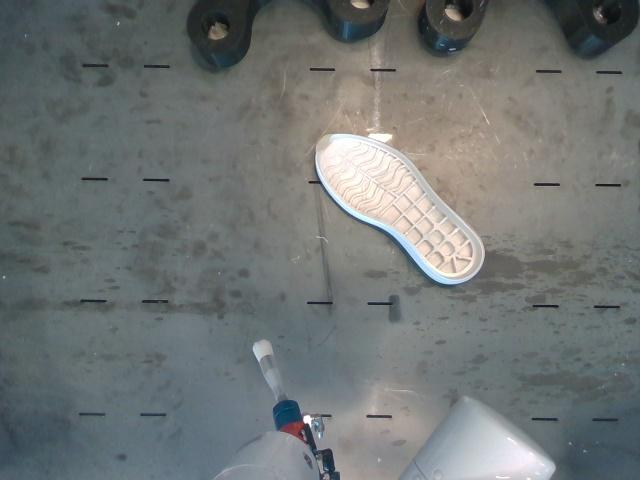shoes: (316, 134, 483, 280)
